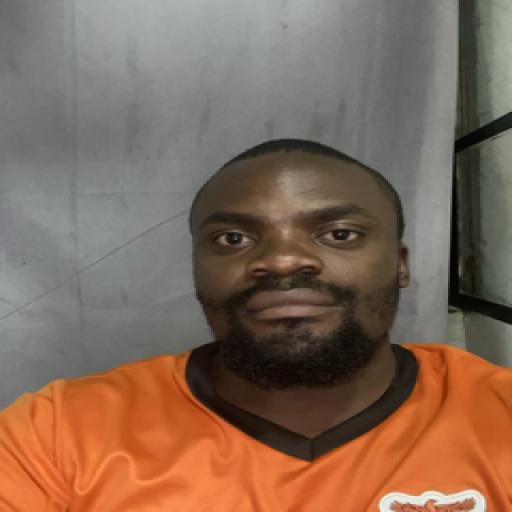JEANLUC: (186, 116, 418, 384)
